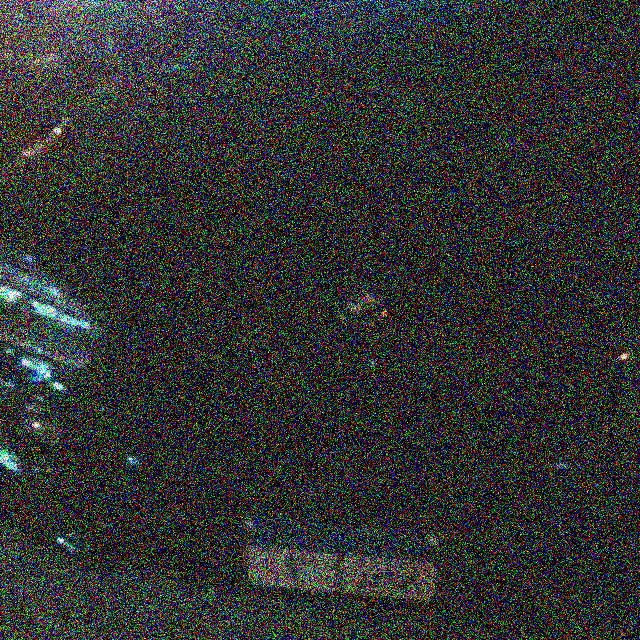License Plate: (239, 511, 446, 606)
